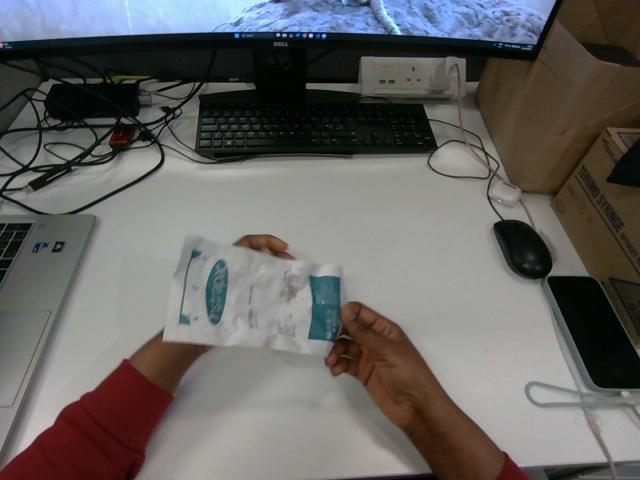gallipot: (163, 237, 345, 355)
